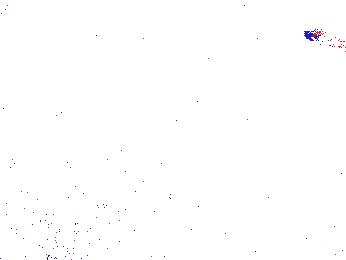red belly glassfish: (147, 50, 208, 73)
redtail glassfish: (303, 27, 346, 55)
